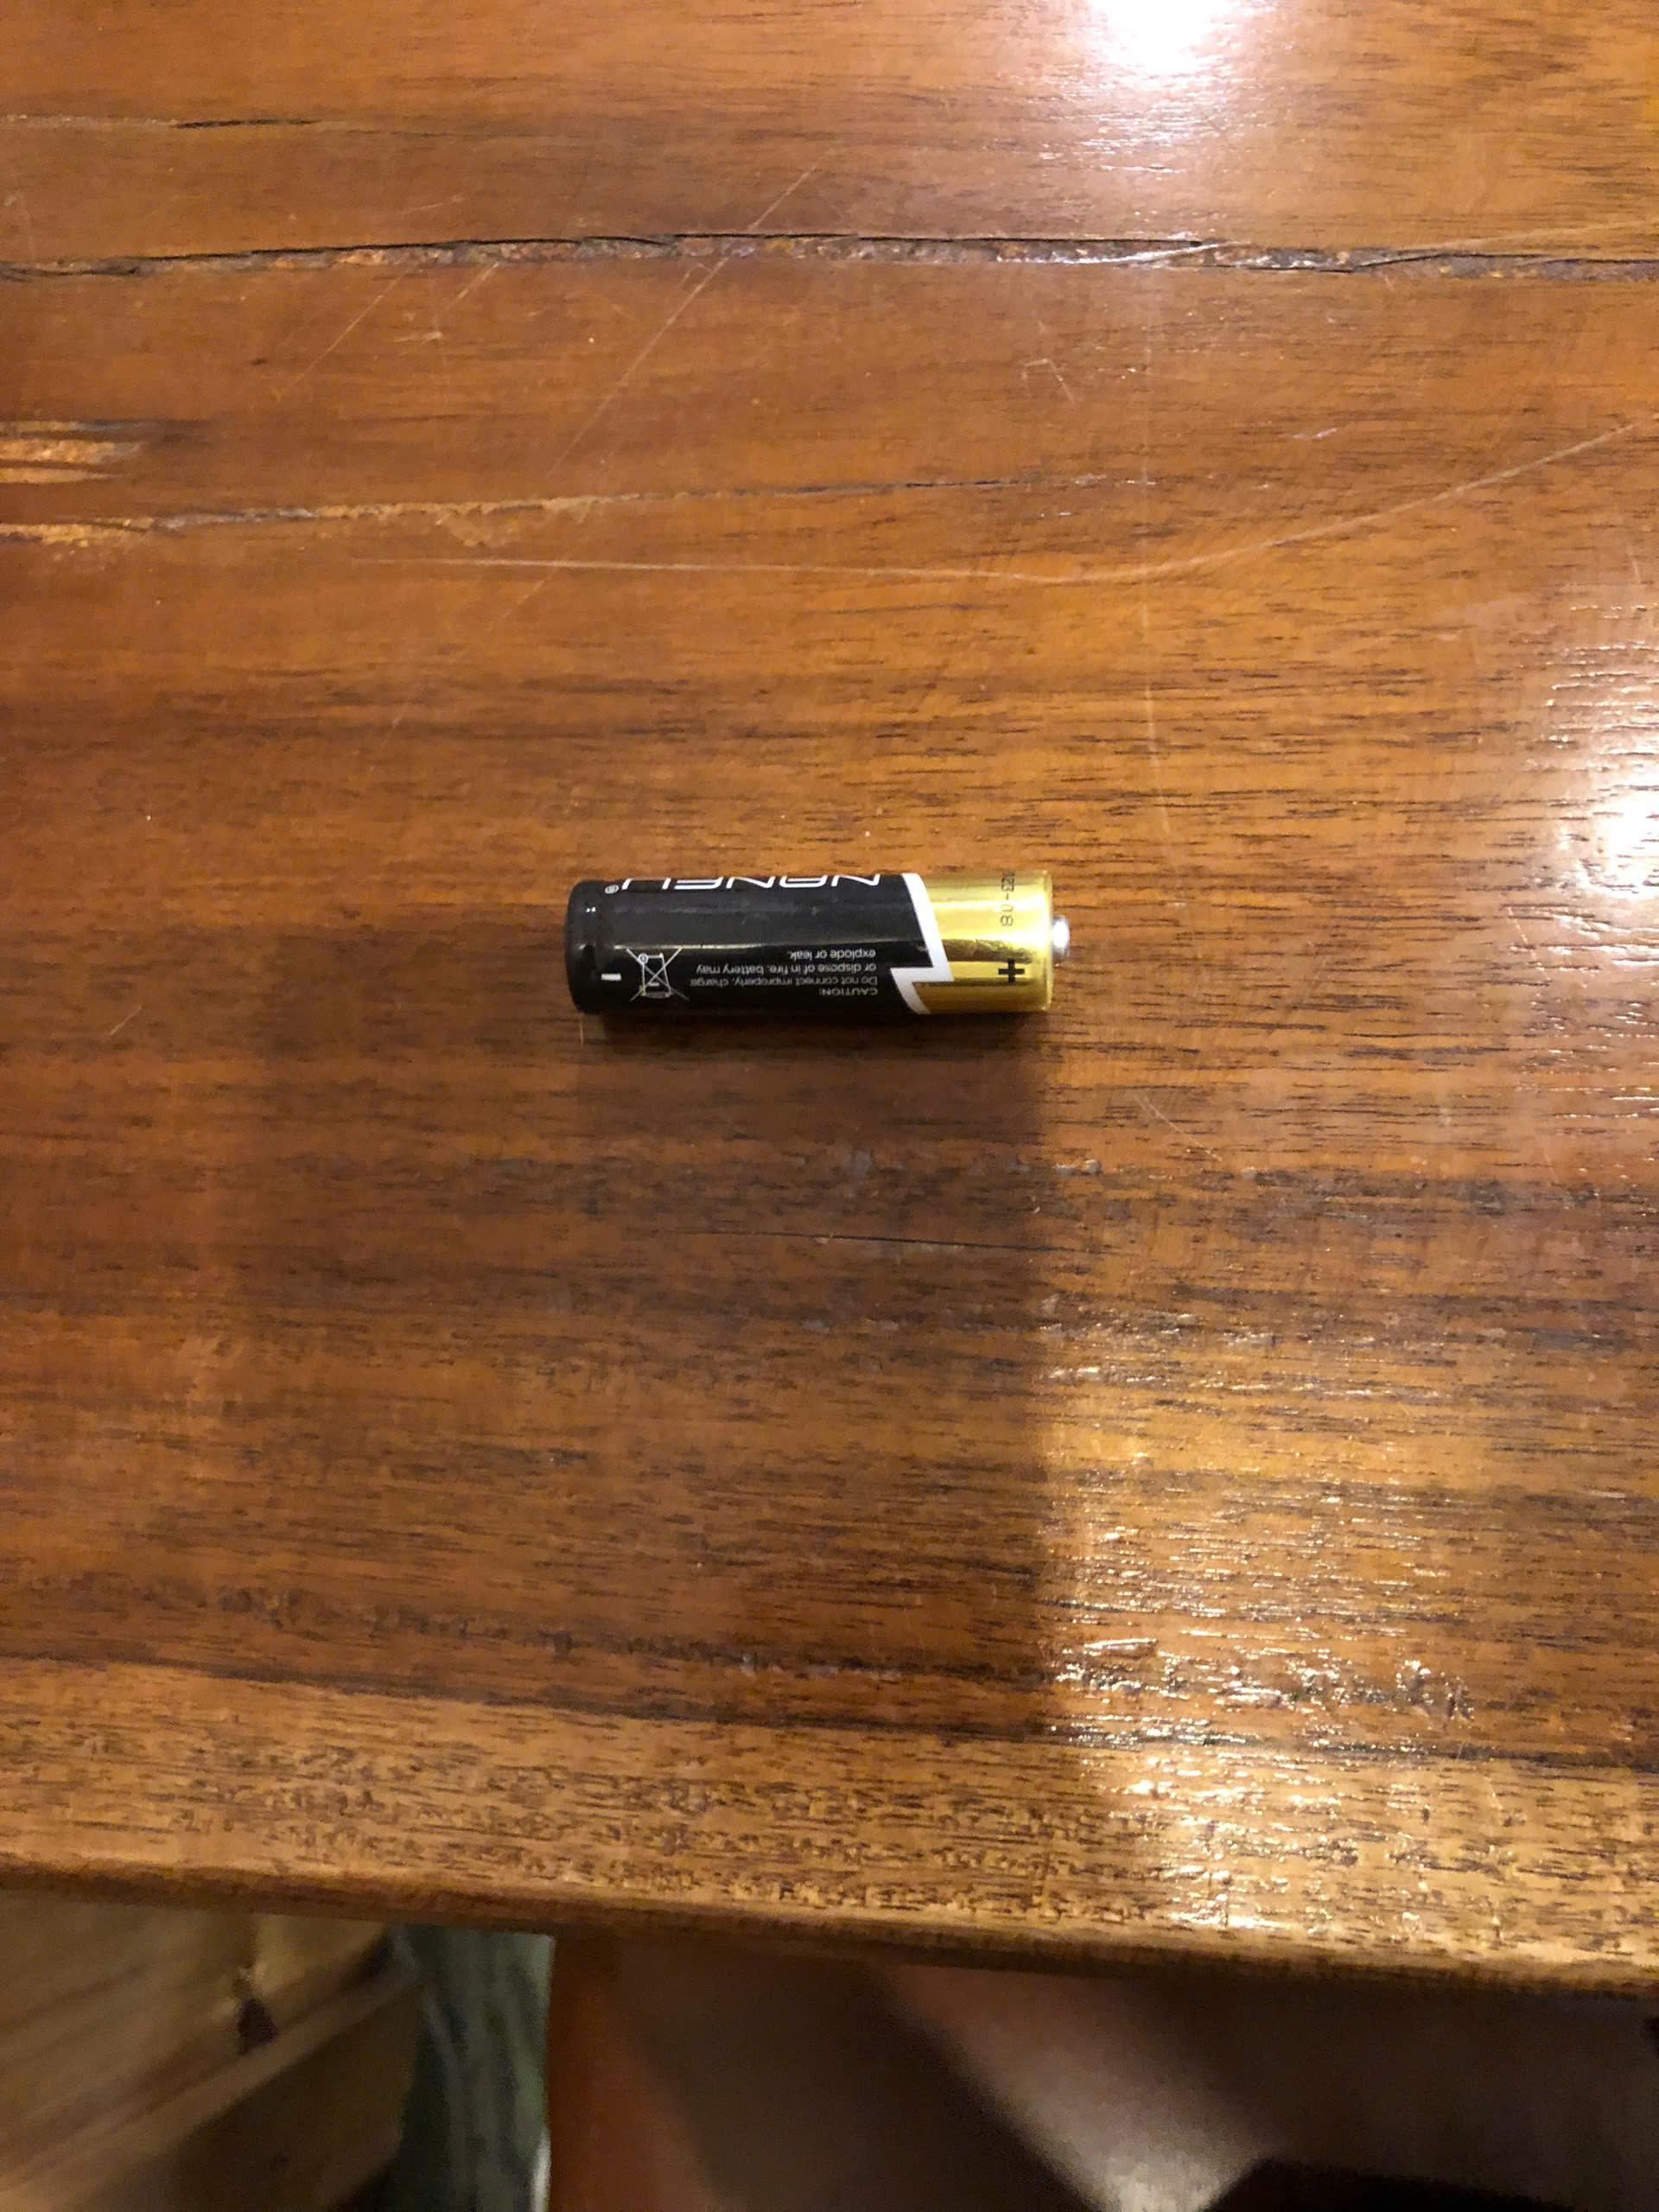Con lai: (575, 869, 1093, 1049)
